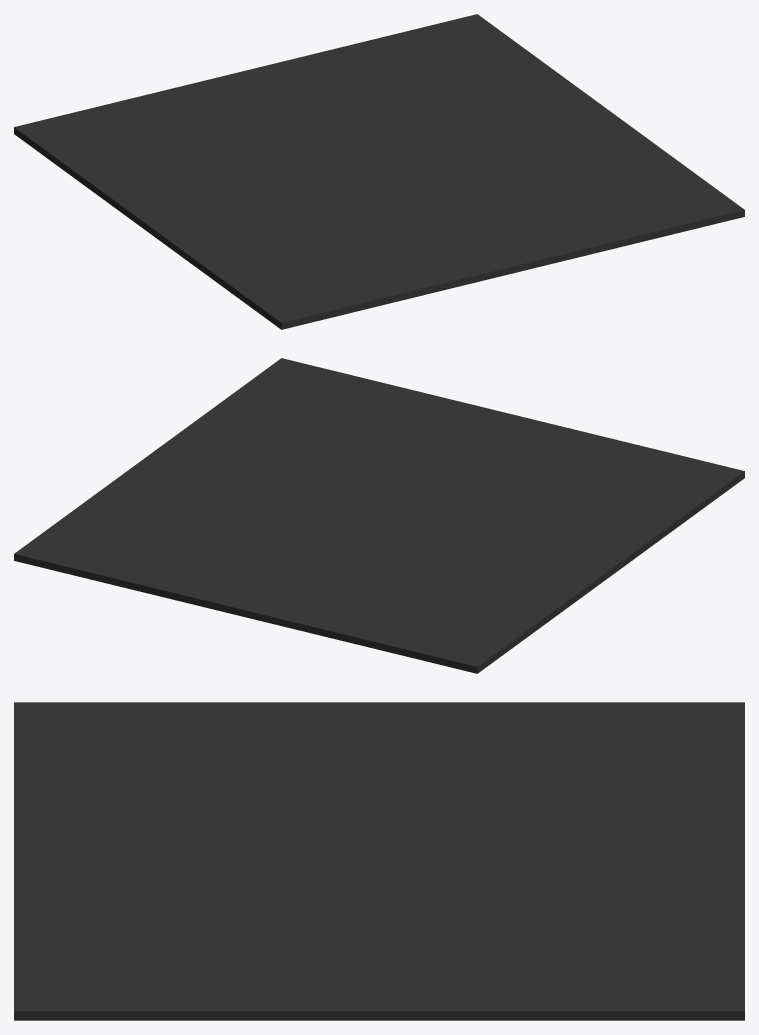
Rendered from Int_Light03.fbx.
3 renders of one model, top to bottom at view 1: azimuth 30°, elevation 25°; view 2: azimuth 150°, elevation 25°; view 3: azimuth 270°, elevation 25°, orthographic. The views are drawn at different scales.
Parts seen in each view (by area): view 1: Int_Light03; view 2: Int_Light03; view 3: Int_Light03.
Boxes of the visible parts, bbox=[...] form: Int_Light03: bbox=[14, 14, 744, 329]; Int_Light03: bbox=[14, 358, 744, 673]; Int_Light03: bbox=[14, 702, 744, 1020].
Size of what is drawn, in the model's own units: 175 by 175 by 2.5.
